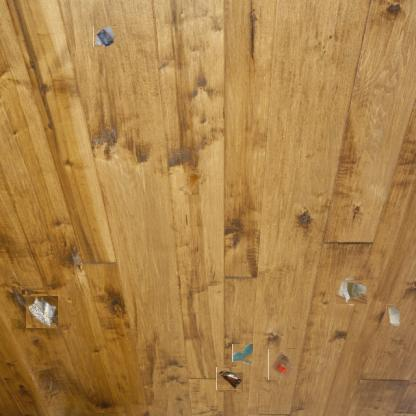dirty: (26, 296, 58, 328), (268, 348, 295, 380), (337, 278, 365, 306), (217, 366, 243, 391), (93, 25, 116, 48), (386, 304, 400, 326)
liquid: (179, 173, 199, 195), (233, 344, 252, 363)
